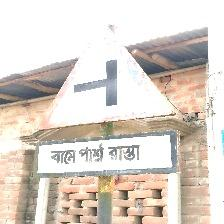Side-road-left: (38, 21, 182, 174)
